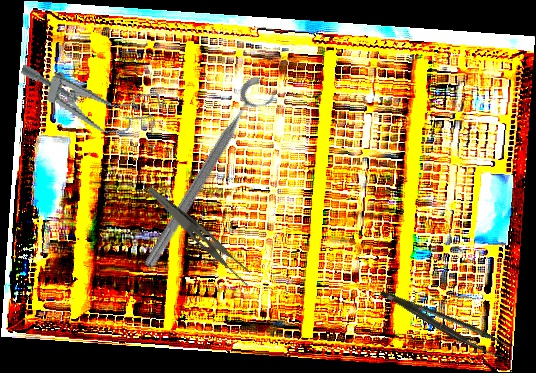Dressing Forceps: (137, 186, 260, 288)
Fixation Ring: (137, 73, 281, 278)
Speculum: (11, 52, 167, 148)
Tissue Forceps: (379, 275, 510, 366)
